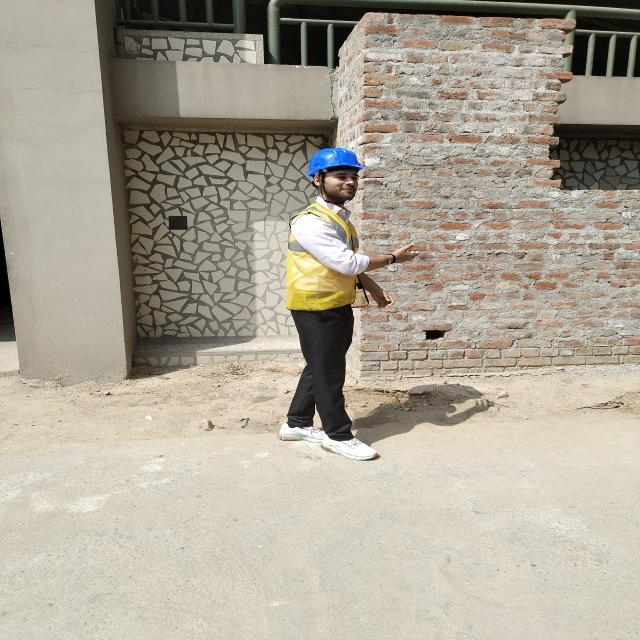safe: (287, 149, 376, 460)
